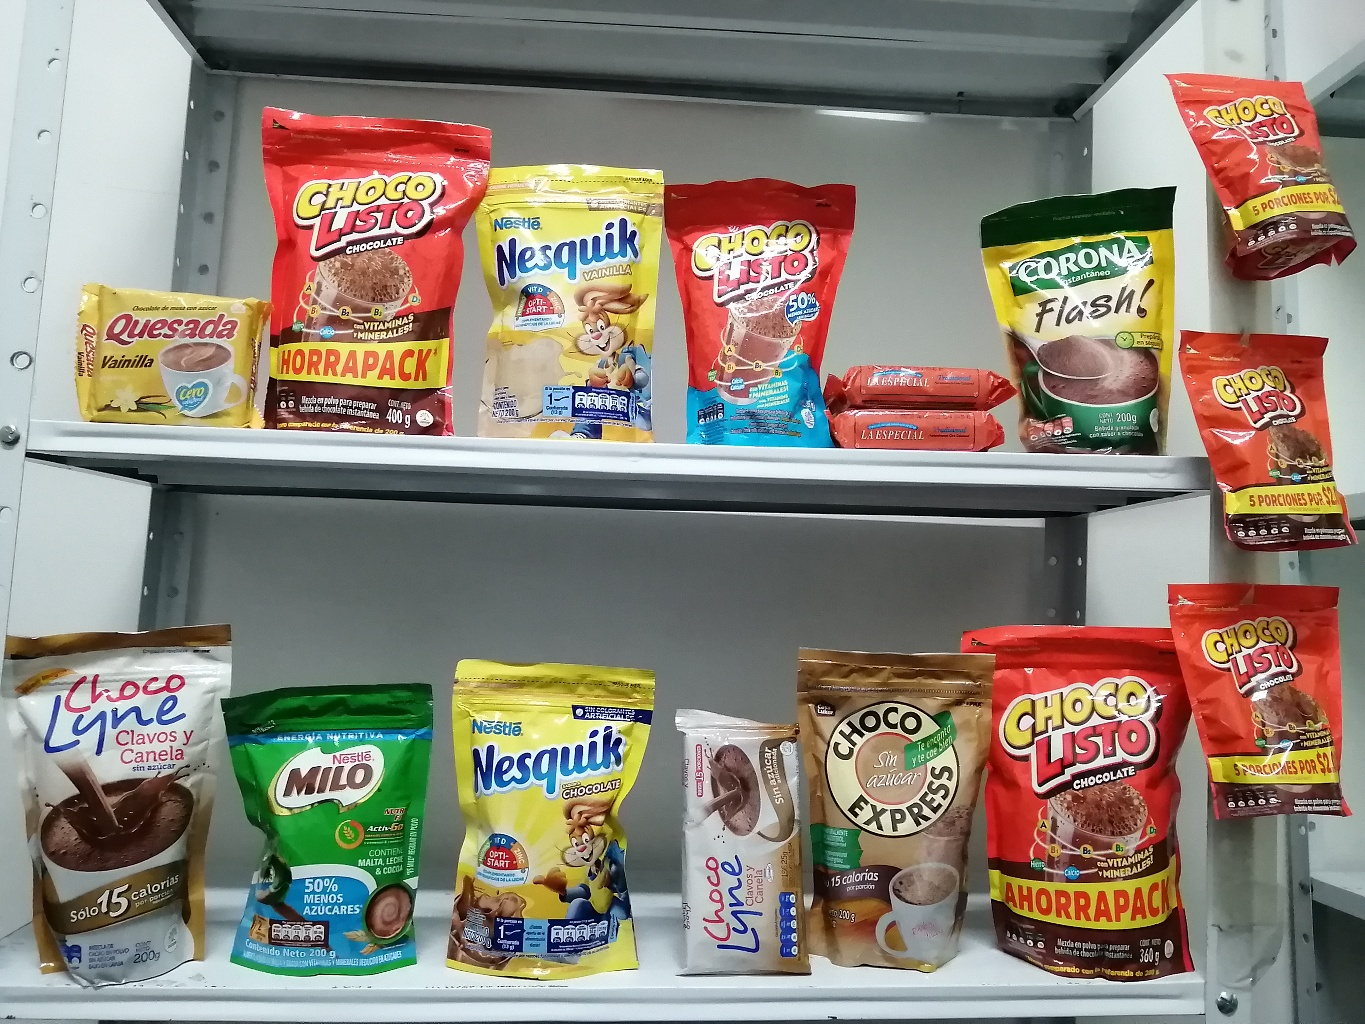COL0170103DYP10000: (1171, 46, 1355, 287)
COL0170103DYP36000: (967, 623, 1226, 982)
COL0170103DYP40000: (264, 96, 493, 440)
COL0170104DYP20000: (667, 148, 861, 446)
COL0170205DYP20000: (225, 677, 447, 983)
COL0170303DYP20000: (444, 650, 671, 984)
COL0170306DYP20000: (465, 153, 677, 449)
